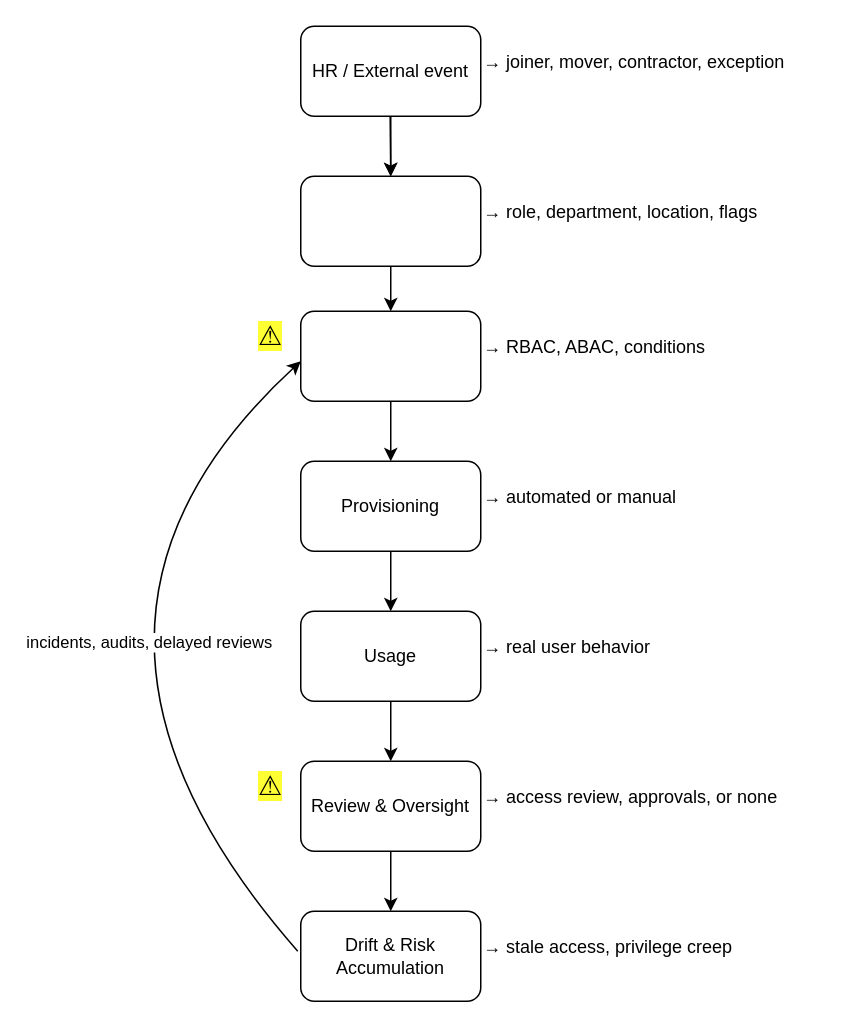
Some shapes in this 852 by 1028 pixel diagram are drawn without their labels. Each missing label, with the box of its shape:
Access & Policy Logic: (299, 310, 481, 401)
Identity Attribtues: (299, 175, 481, 266)
